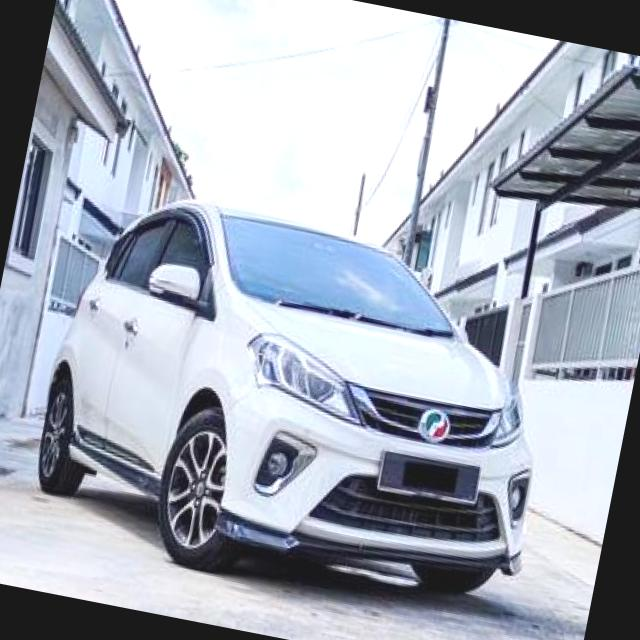PeroduaMyvi: (18, 174, 580, 632)
